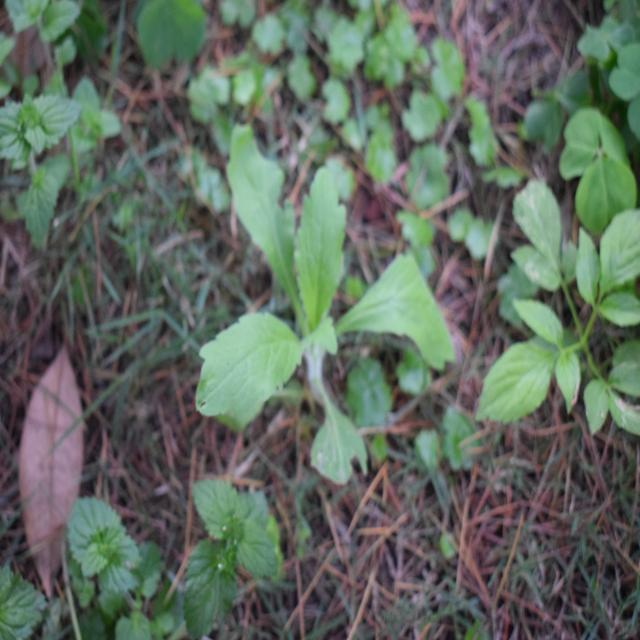horseweed: (188, 144, 456, 414)
